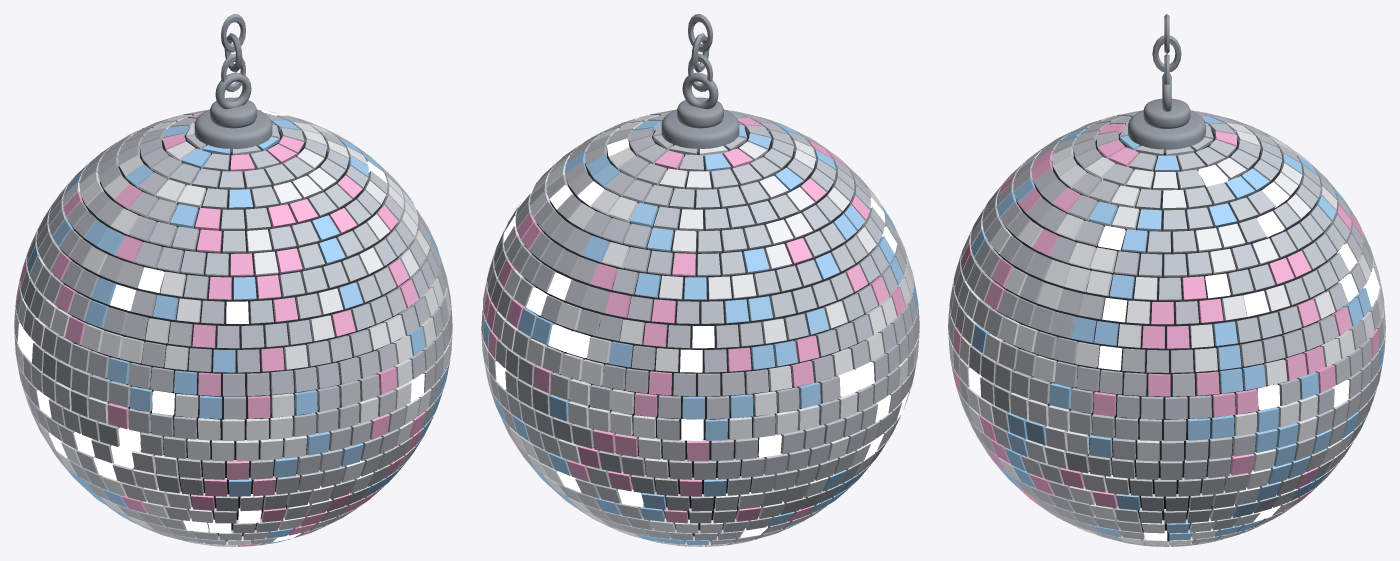
File: disco-ball.glb
3 renders of one model, left to right at view 1: azimuth 30°, elevation 25°; view 2: azimuth 150°, elevation 25°; view 3: azimuth 270°, elevation 25°, orthographic.
Visible parts, largest first — view 1: DiscoBall; view 2: DiscoBall; view 3: DiscoBall.
Boxes of the visible parts, x1,y1,x2,y2 form: DiscoBall: [14, 14, 452, 546]; DiscoBall: [481, 14, 919, 546]; DiscoBall: [948, 14, 1385, 546].
Size of the model in its own units: 0.8421 by 1.09 by 0.8421.
